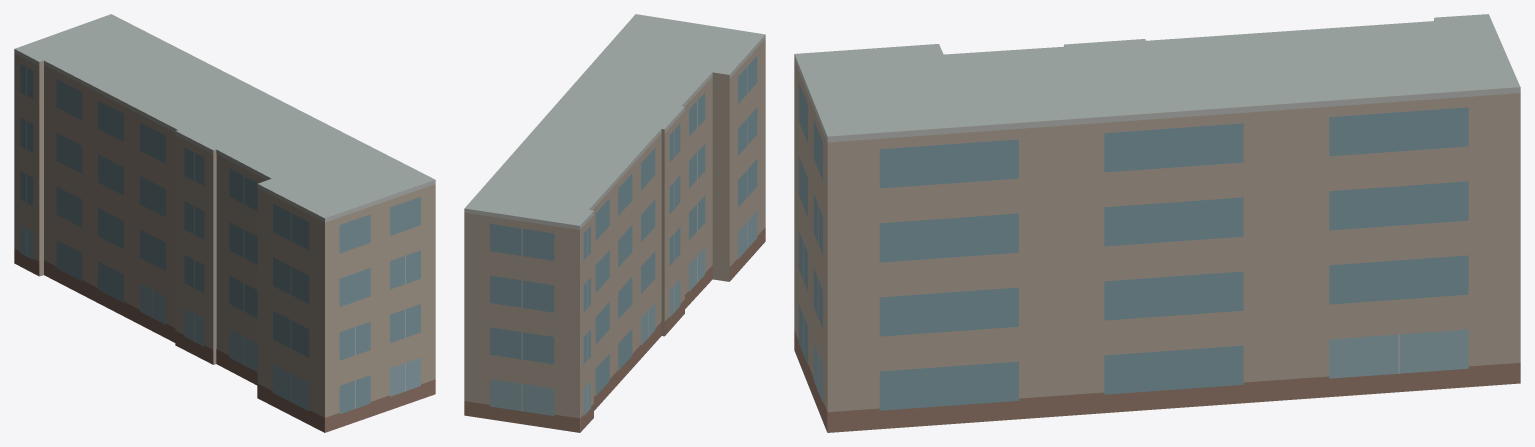
Rendered from survey-upis-33031267.glb.
The picture shows the model from 3 angles, left to right: view 1: azimuth 30°, elevation 25°; view 2: azimuth 150°, elevation 25°; view 3: azimuth 270°, elevation 25°; orthographic projection. The views are drawn at different scales.
Parts seen in each view (by area): view 1: survey-upis-33031267.tmp; view 2: survey-upis-33031267.tmp; view 3: survey-upis-33031267.tmp.
Boxes of the visible parts, x1,y1,x2,y2 form: survey-upis-33031267.tmp: (14, 14, 435, 432); survey-upis-33031267.tmp: (464, 14, 765, 432); survey-upis-33031267.tmp: (794, 14, 1520, 432).
Size of the model in its own units: 10.83 by 12.2 by 27.11.
